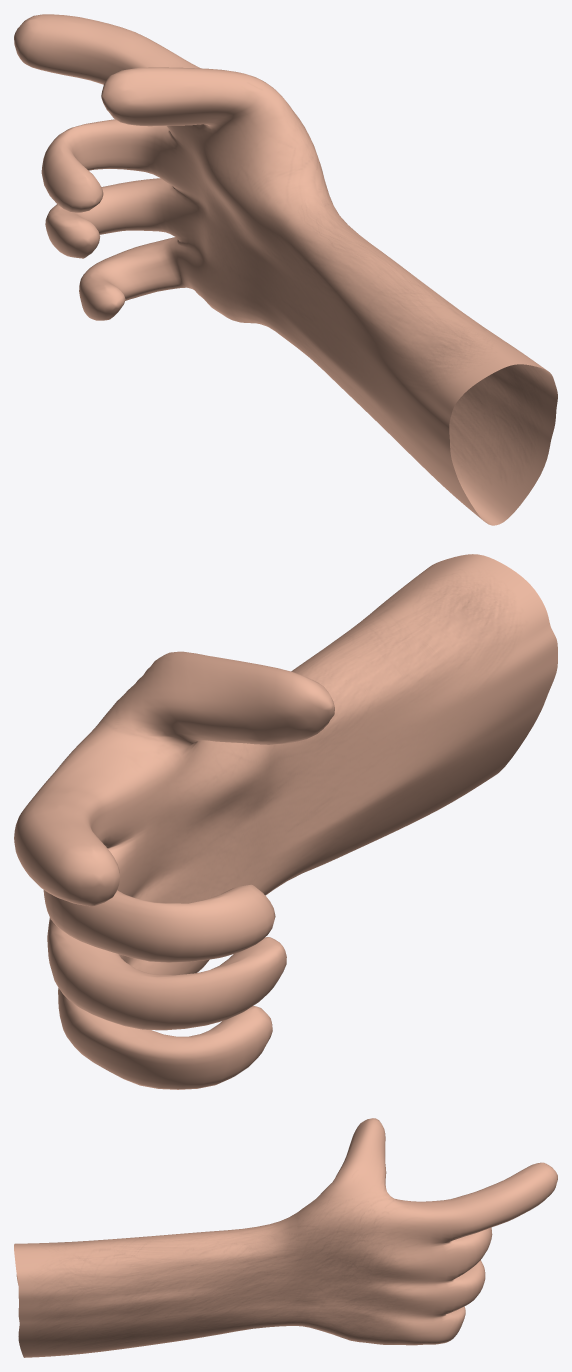
Rendered from Shot_Animation.fbx.
3 views of the same model, one above another, from view 1: azimuth 30°, elevation 25°; view 2: azimuth 150°, elevation 25°; view 3: azimuth 270°, elevation 25° (orthographic). The views are drawn at different scales.
Visible parts, largest first — view 1: polySurface48; view 2: polySurface48; view 3: polySurface48.
Boxes of the visible parts, x1=… form: polySurface48: x1=14, y1=14, x2=557, y2=525; polySurface48: x1=14, y1=554, x2=557, y2=1089; polySurface48: x1=14, y1=1118, x2=557, y2=1357.
Size of the model in its own units: 1.84 by 2.57 by 6.37.
